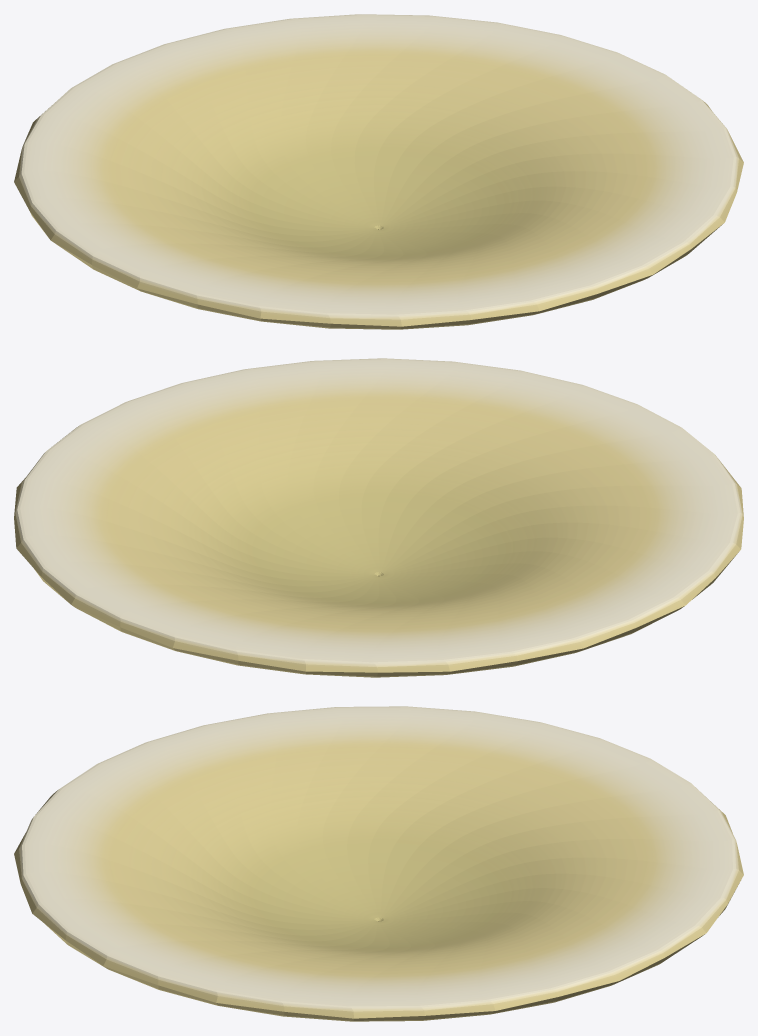
The model's file is Object_Coral_07.fbx.
3 renders of one model, top to bottom at view 1: azimuth 30°, elevation 25°; view 2: azimuth 150°, elevation 25°; view 3: azimuth 270°, elevation 25°, orthographic.
Parts seen in each view (by area): view 1: CoralFlat; view 2: CoralFlat; view 3: CoralFlat.
Boxes of the visible parts, x1,y1,x2,y2 form: CoralFlat: (14, 14, 743, 329); CoralFlat: (14, 358, 743, 677); CoralFlat: (14, 706, 743, 1021).
Bounding box in the file's own units: 901 × 106 × 901.
